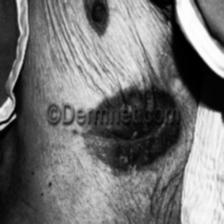Non-Cancerous Skin Condition: (61, 15, 184, 109), (83, 134, 179, 224)
